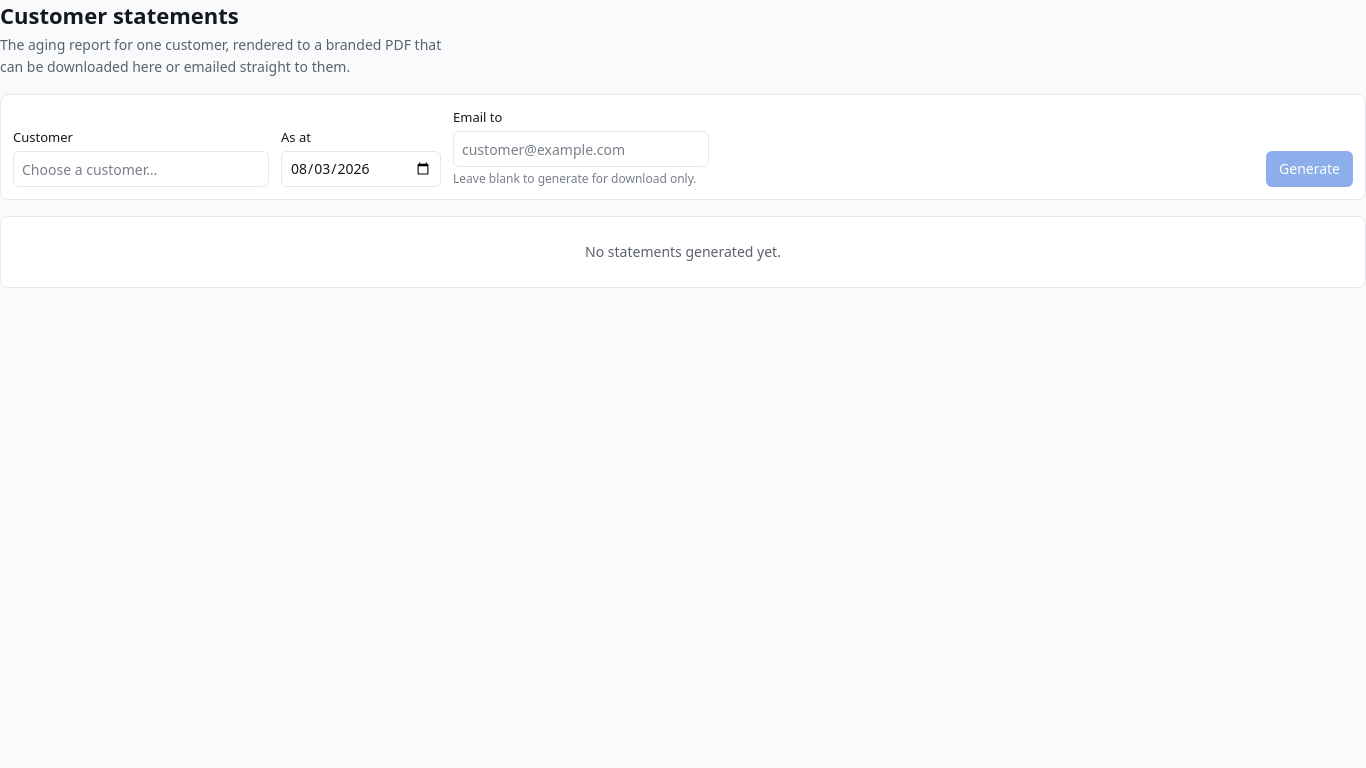
Scenario: CustomerStatementsScreen › offers only customers — not vendors — in the picker
Click the dropdown: x=141, y=169 [13, 151, 269, 187]
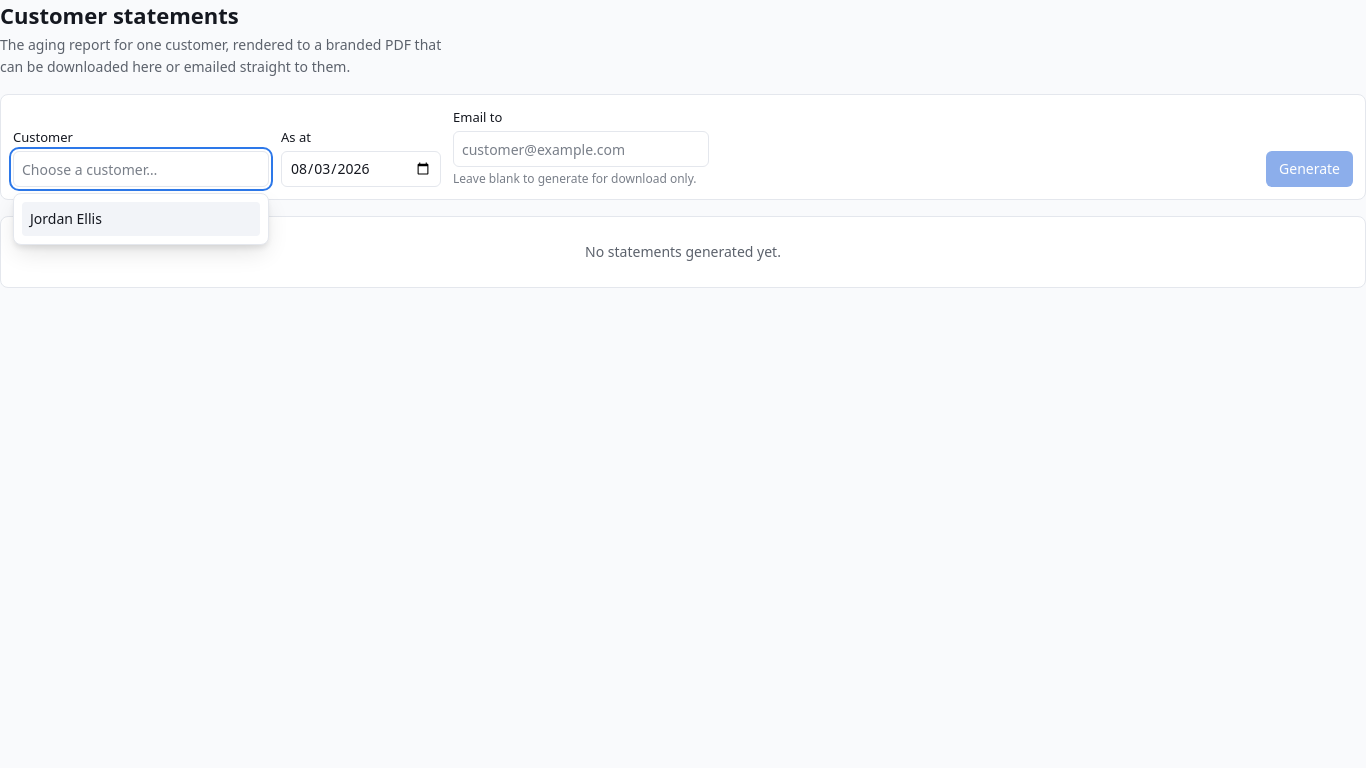
Now the option "Jordan Ellis" is shown, box [22, 202, 260, 236]
